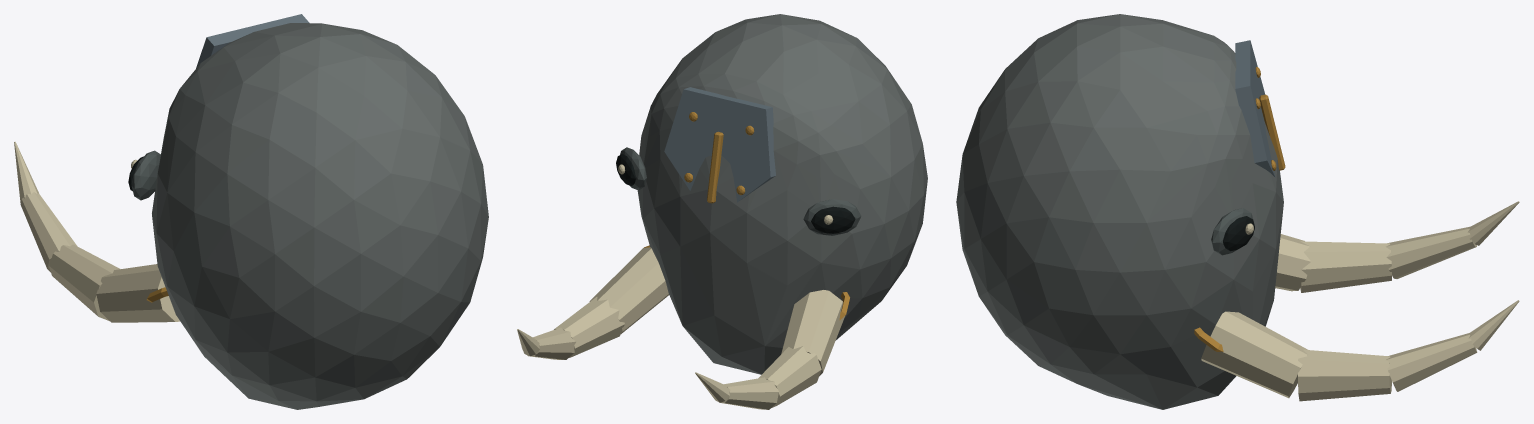
The model's file is Head.glb.
The picture shows the model from 3 angles, left to right: view 1: azimuth 30°, elevation 25°; view 2: azimuth 150°, elevation 25°; view 3: azimuth 270°, elevation 25°; orthographic projection. The views are drawn at different scales.
Visible parts, largest first — view 1: Sculpture; view 2: Sculpture; view 3: Sculpture.
Boxes of the visible parts, x1,y1,x2,y2 form: Sculpture: (14,14,488,409); Sculpture: (517,14,927,409); Sculpture: (956,14,1519,409).
Size of the model in its own units: 1.17 by 1.45 by 1.98.
